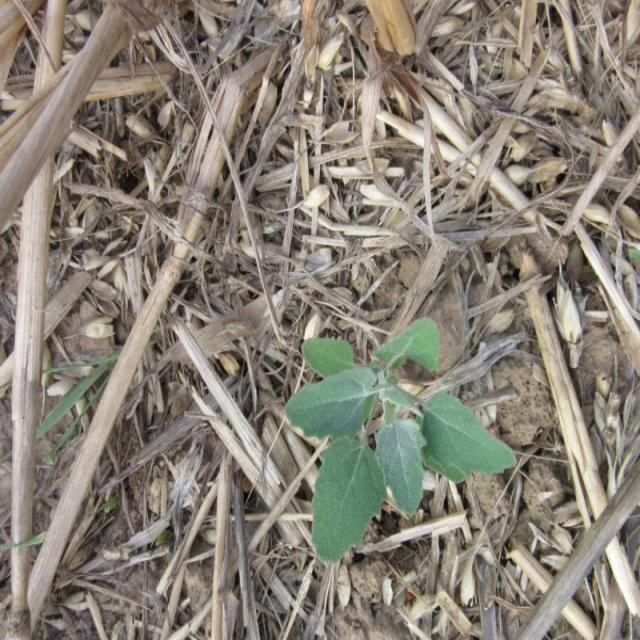ca: (287, 324, 516, 564)
